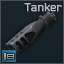Mosin Tacfire Tanker Style muzzle brake: (0, 0, 64, 64)
